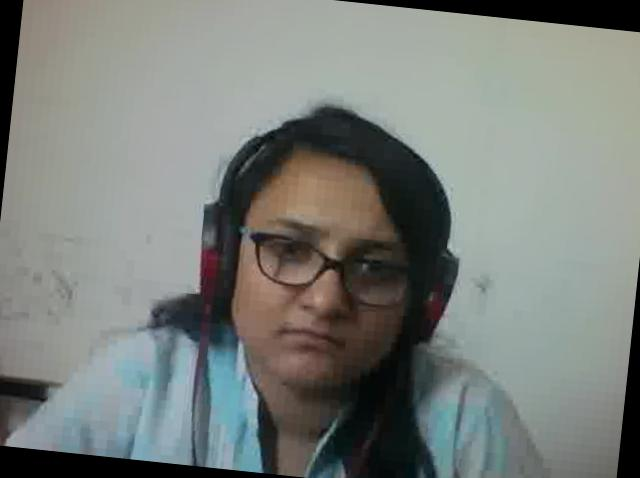bingung: (226, 162, 426, 400)
